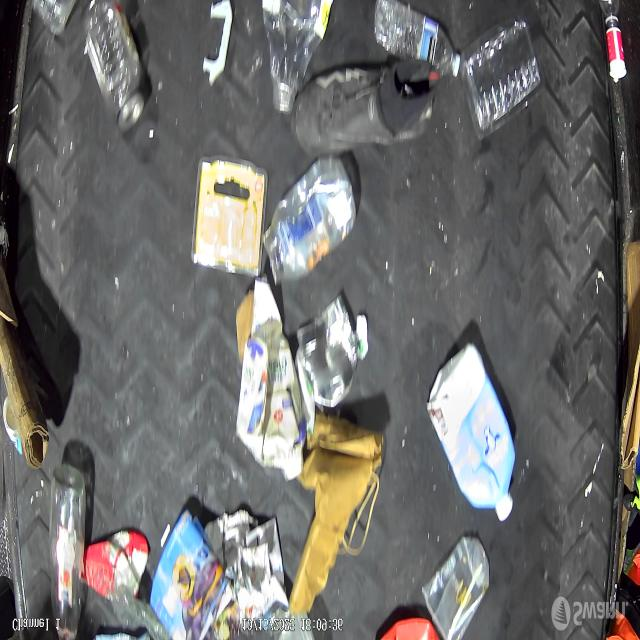non_white_jug: (422, 340, 520, 520)
plastic_bottle: (374, 0, 462, 83), (50, 466, 87, 640)
